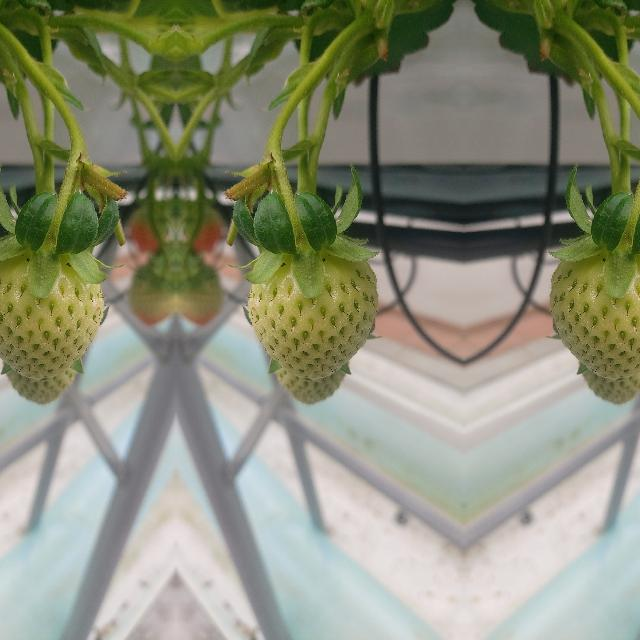Health_25: (247, 254, 377, 380), (0, 254, 103, 379), (549, 254, 640, 379)
